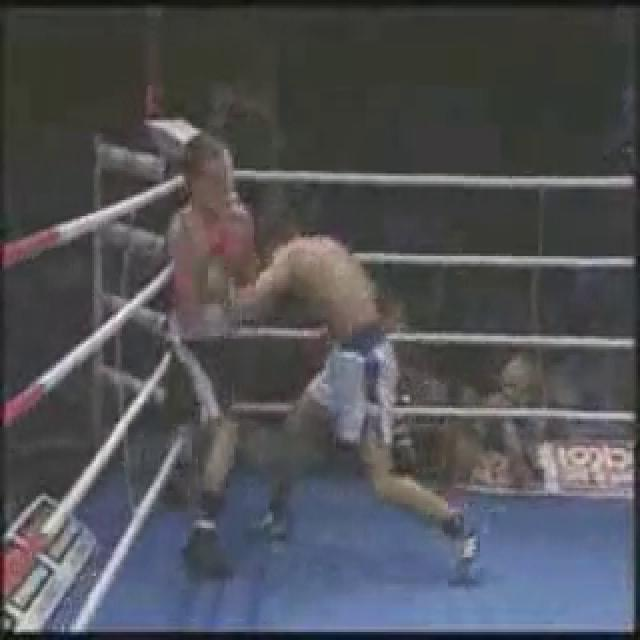violence: (171, 132, 484, 587)
